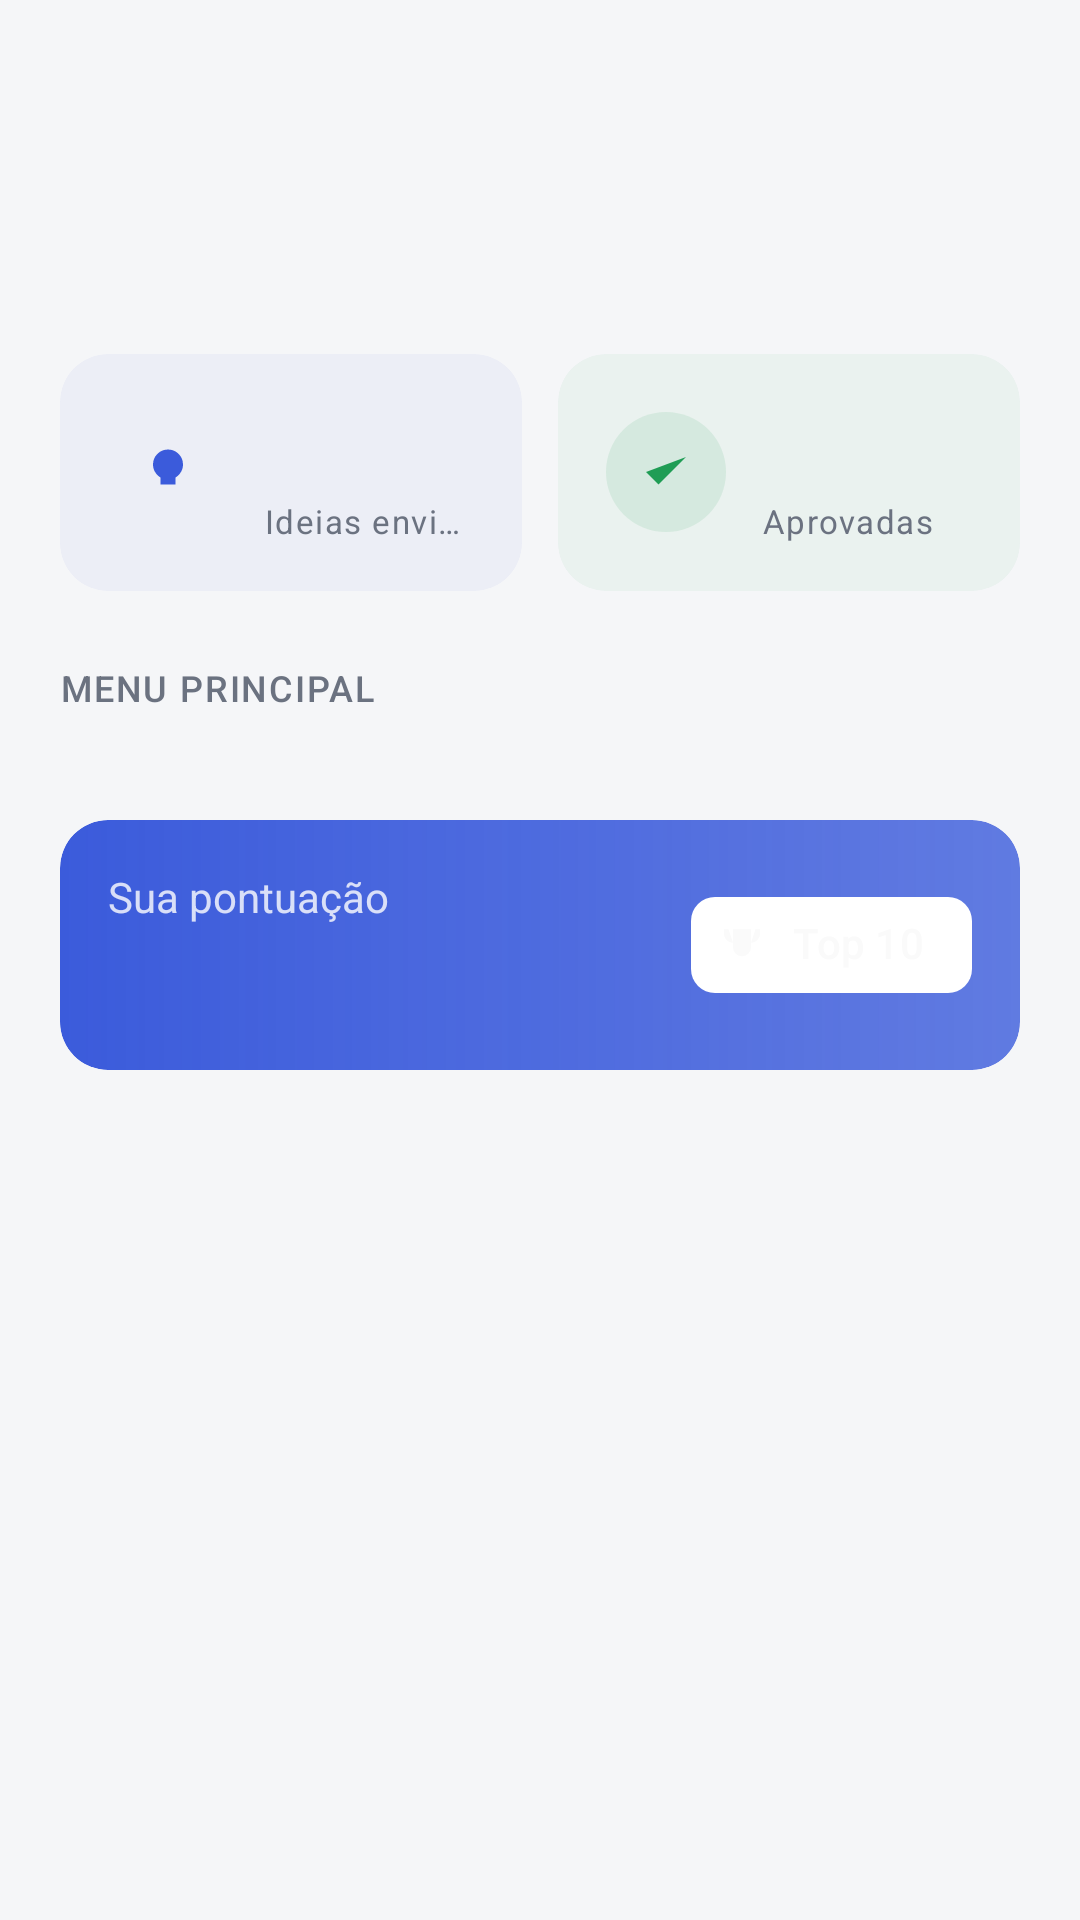

Icons on this 1080*1920 Android screen, each with its box as (x1, y1, x2, y2):
lightbulb: (153, 449, 183, 485)
